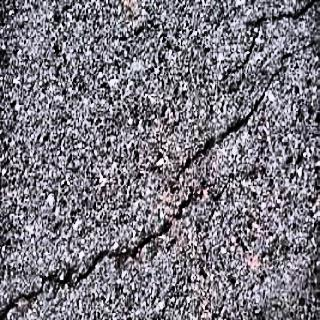crack: (2, 189, 198, 320), (173, 37, 316, 181), (228, 0, 317, 83)
